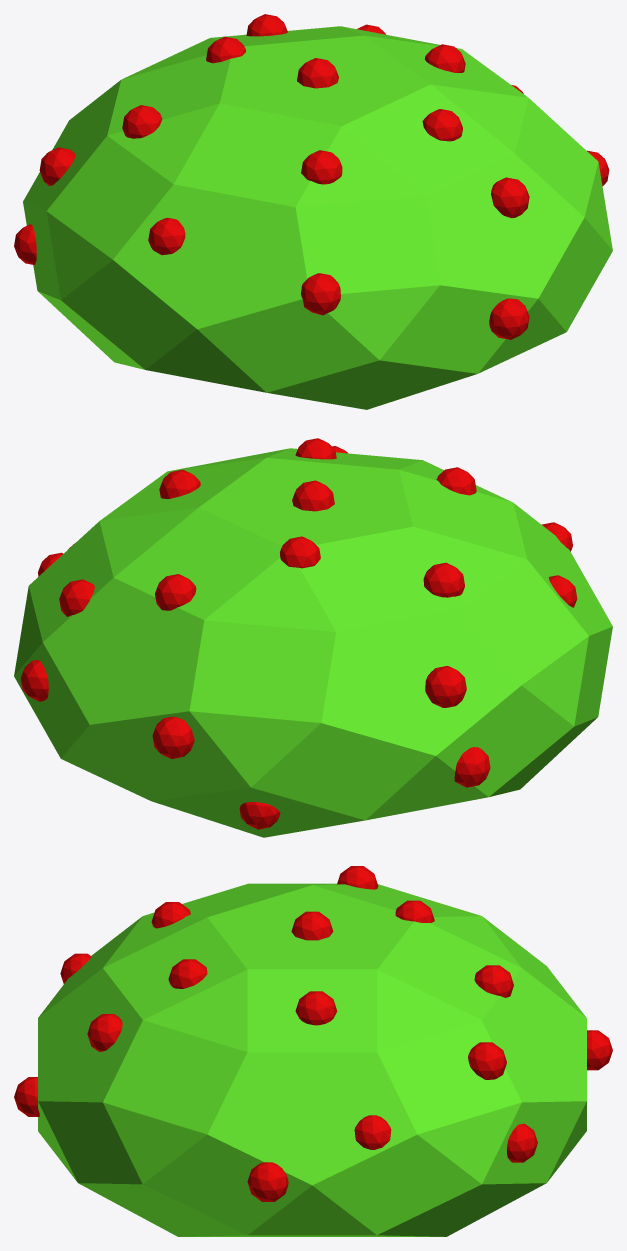
Rendered from Krzaczek2.fbx.
3 renders of one model, top to bottom at view 1: azimuth 30°, elevation 25°; view 2: azimuth 150°, elevation 25°; view 3: azimuth 270°, elevation 25°, orthographic. The views are drawn at different scales.
Visible parts, largest first — view 1: Kula ico; view 2: Kula ico; view 3: Kula ico.
Boxes of the visible parts, x1,y1,x2,y2 form: Kula ico: (14,14,612,409); Kula ico: (14,438,612,837); Kula ico: (14,866,612,1236).
Size of the model in its own units: 390 by 181 by 398.
